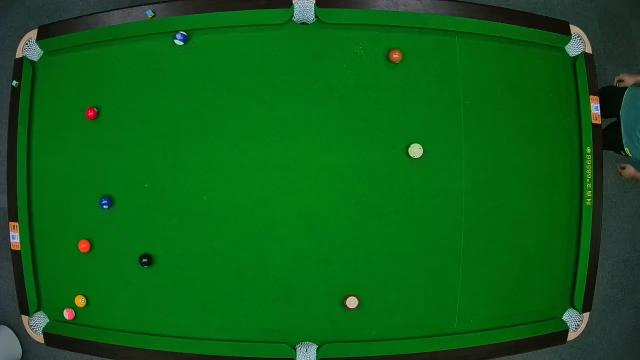bag1: (20, 38, 44, 62)
bag2: (292, 0, 318, 24)
bag3: (563, 30, 589, 57)
bag4: (22, 310, 50, 340)
bag5: (296, 340, 318, 360)
bag6: (560, 306, 588, 336)
ball0: (408, 143, 424, 159)
ball1: (75, 295, 87, 309)
ball10: (174, 30, 188, 46)
ball11: (344, 295, 360, 311)
ball12: (62, 306, 76, 322)
ball2: (99, 194, 115, 210)
ball3: (85, 106, 99, 121)
ball5: (78, 238, 92, 254)
ball7: (388, 48, 404, 66)
ball8: (139, 253, 153, 269)
